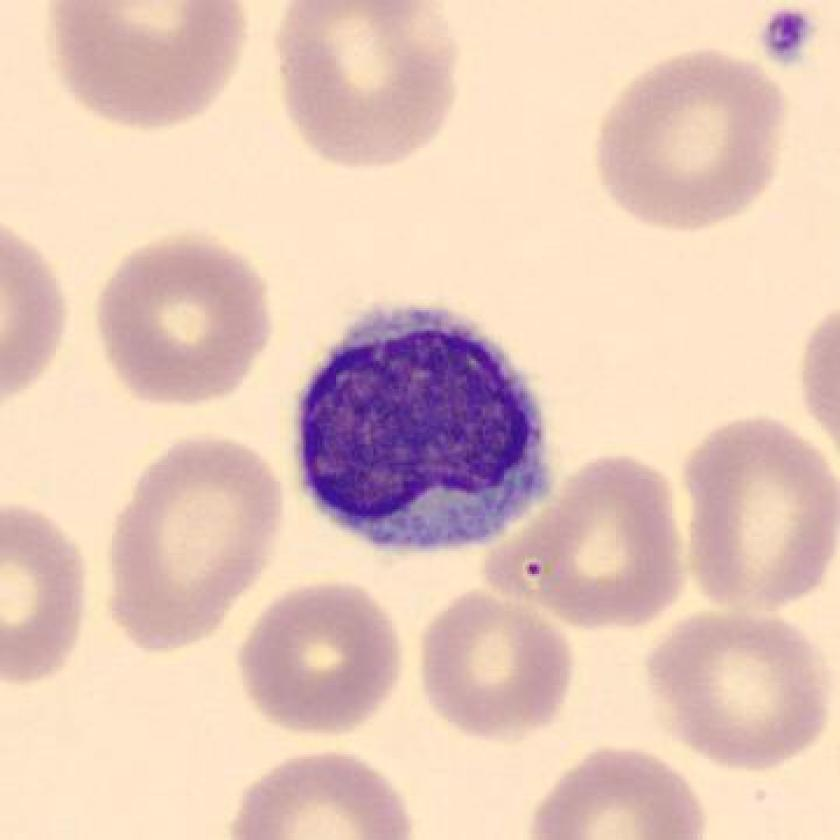lymphocyte: (281, 293, 570, 570)
